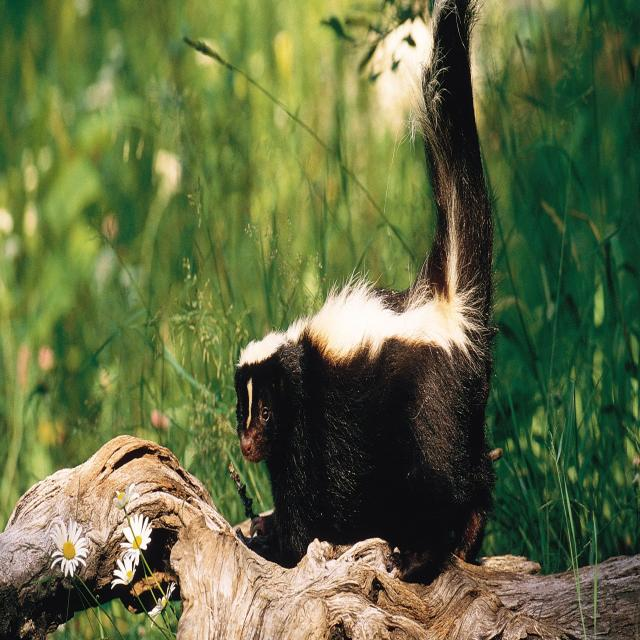Skunk: (216, 0, 550, 581)
